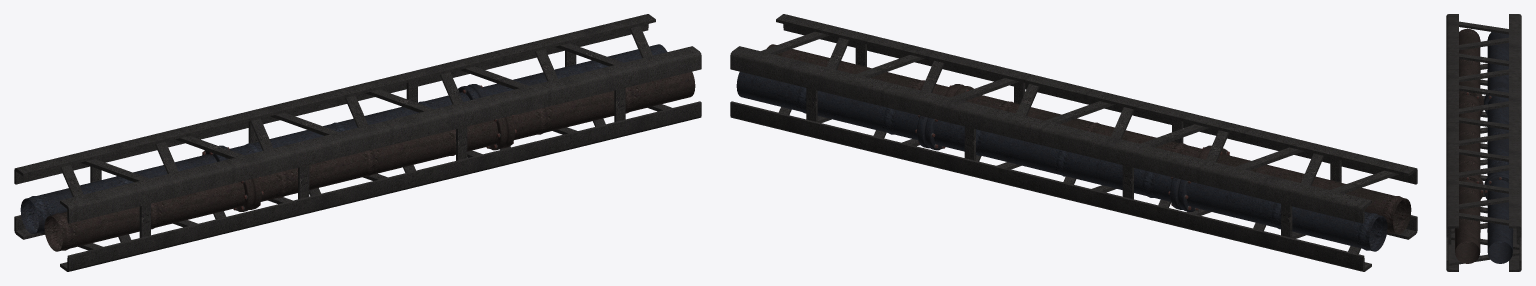
Rendered from beam_7.glb.
3 renders of one model, left to right at view 1: azimuth 30°, elevation 25°; view 2: azimuth 150°, elevation 25°; view 3: azimuth 270°, elevation 25°, orthographic. The views are drawn at different scales.
Visible parts, largest first — view 1: beam_7; view 2: beam_7; view 3: beam_7.
Part boxes in pixels (bbox=[...]): beam_7: bbox=[14, 14, 701, 271]; beam_7: bbox=[730, 14, 1417, 271]; beam_7: bbox=[1446, 14, 1521, 271].
Size of the model in its own units: 4 by 0.4 by 0.6.
Materials: 5 (5 with a texture image).
